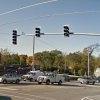Traffic light: (7, 24, 73, 49)
